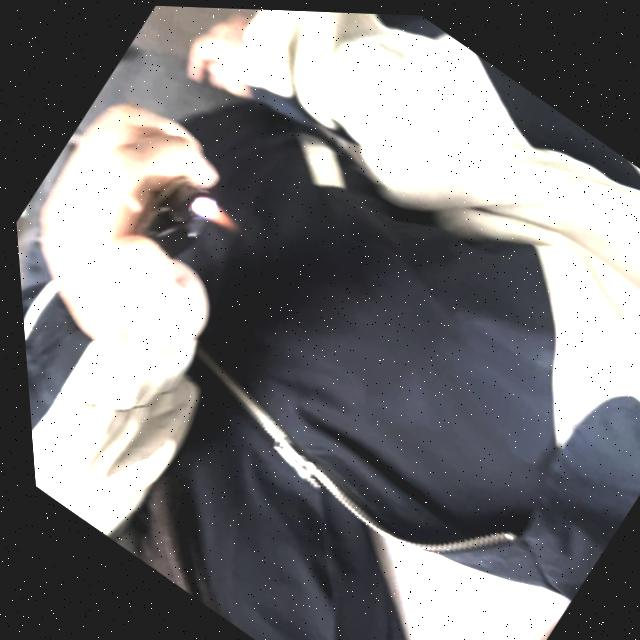Fire: (181, 186, 243, 240)
